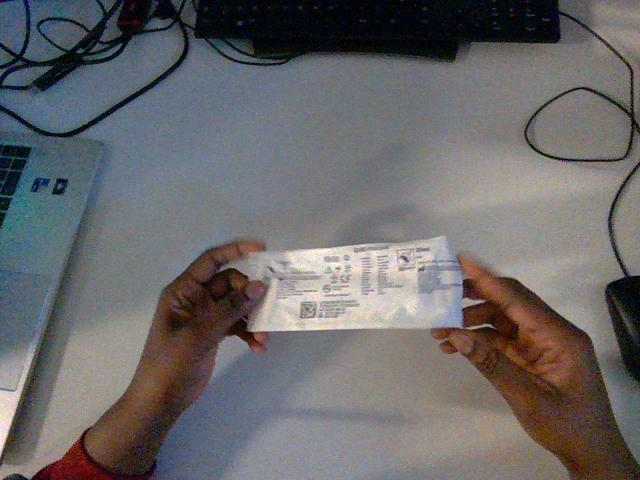syringe: (248, 237, 461, 330)
